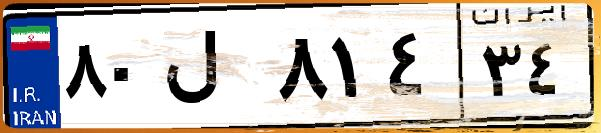0: (110, 28, 158, 98)
1: (330, 28, 385, 110)
3: (475, 38, 525, 113)
4: (385, 28, 445, 110), (525, 38, 570, 115)
8: (270, 28, 330, 110), (57, 26, 110, 100)
ل: (158, 20, 270, 120)
